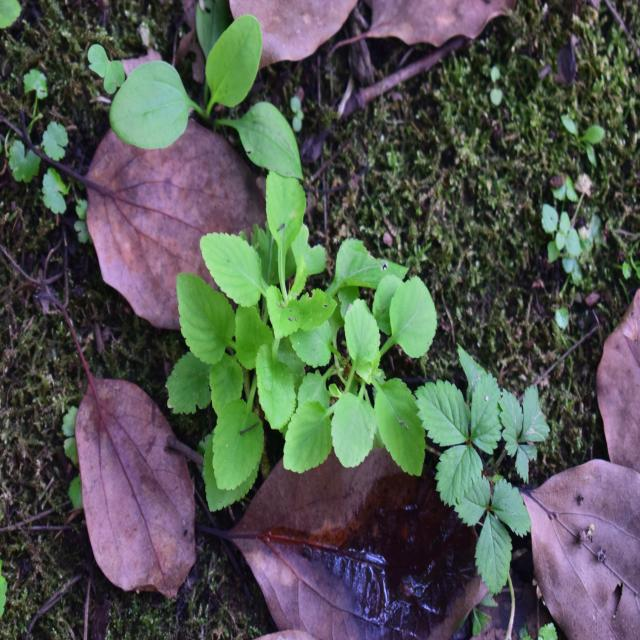Viola: (206, 192, 411, 499)
